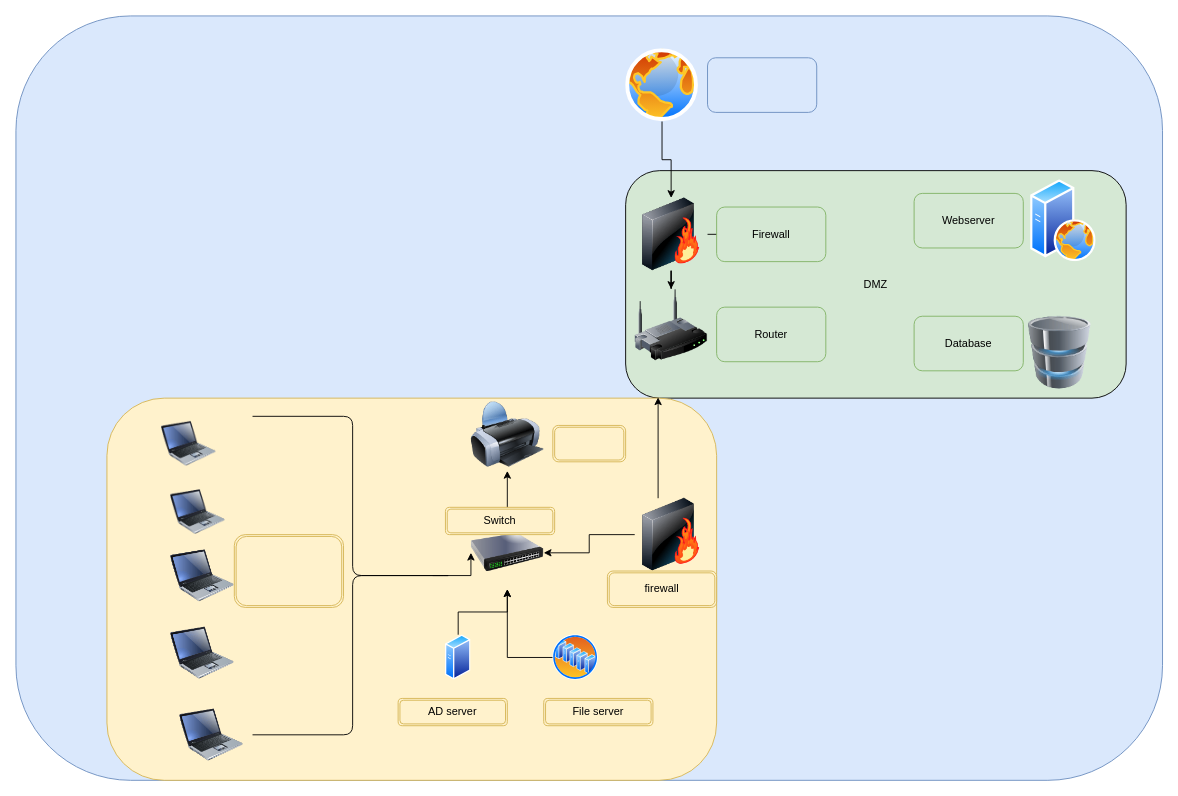
This 1178x796 diagram has some shape labels left out. Here are the shapes that lost their labels. From the top down, the centre of each, then its label:
the point at 762,84: Internet
the point at 589,443: Printer
the point at 288,570: Workstations
